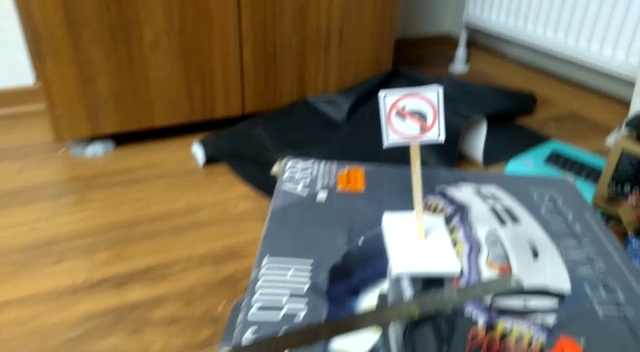sola_donulmez: (387, 91, 439, 142)
